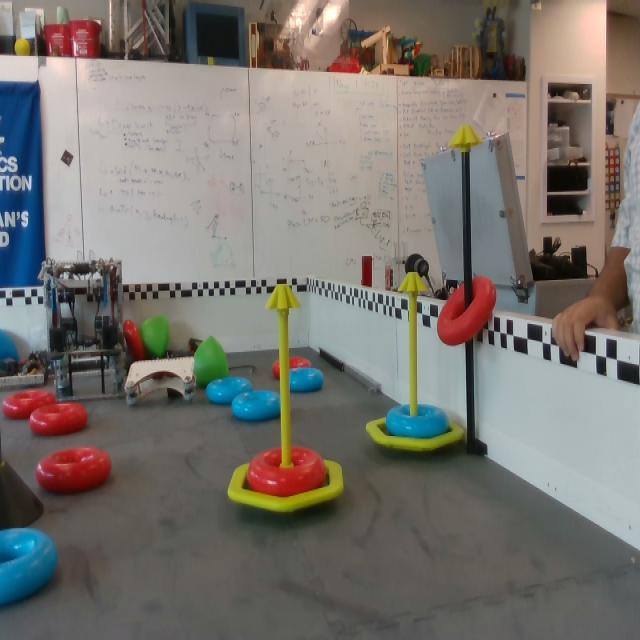Blue-Ring: (0, 528, 58, 608), (234, 389, 284, 421), (206, 377, 253, 404), (281, 368, 324, 393)
Mobile-Goal: (229, 285, 344, 514), (370, 272, 467, 456)
Red-Ring: (435, 272, 496, 350), (248, 445, 326, 498), (34, 448, 111, 496), (29, 403, 88, 433), (2, 391, 59, 419), (121, 319, 146, 360), (274, 356, 310, 378)
Yellow-Stake-Head: (266, 283, 302, 312), (450, 125, 482, 147), (398, 273, 429, 293)
